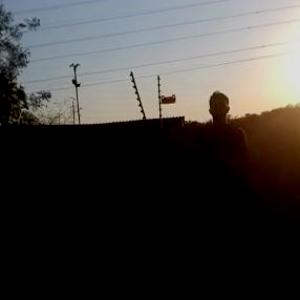follow: (190, 85, 253, 287)
